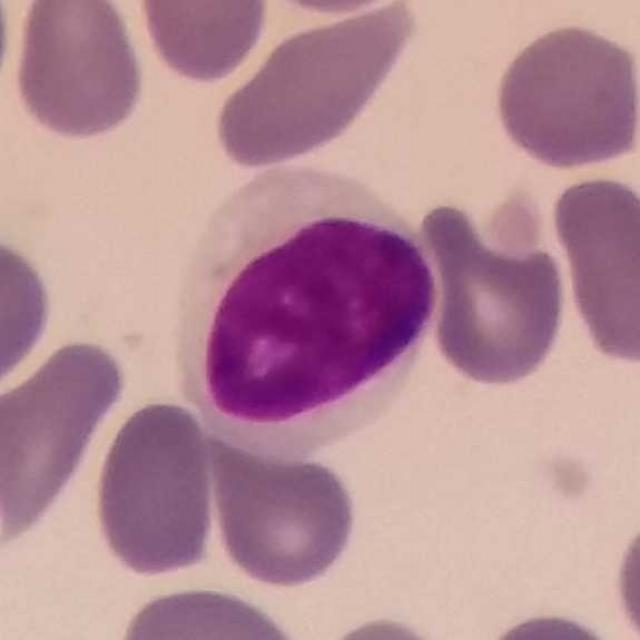Lymphocyte: (158, 154, 437, 462)
RBC: (207, 2, 424, 175), (417, 191, 572, 393), (0, 333, 128, 556), (88, 395, 220, 581), (206, 443, 364, 591), (489, 19, 639, 172), (8, 1, 150, 146), (546, 170, 639, 370), (131, 0, 274, 88), (110, 581, 312, 640), (0, 226, 58, 400), (474, 606, 628, 640), (308, 612, 466, 640), (610, 505, 640, 640), (252, 0, 428, 18)
